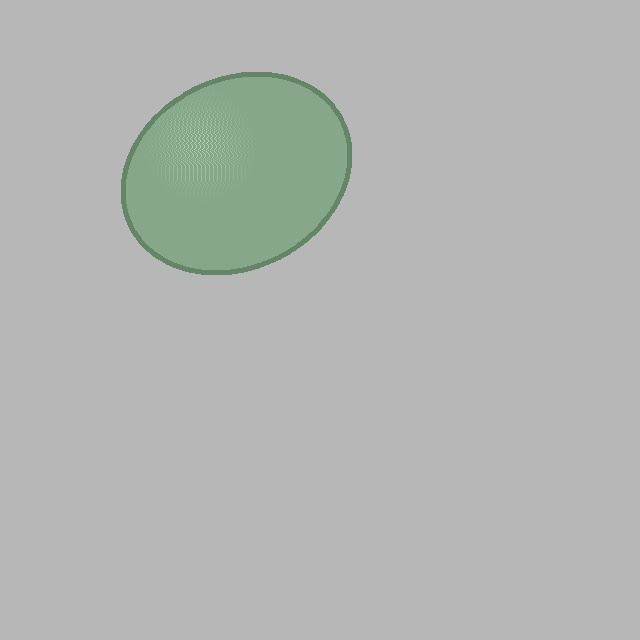lens: (123, 74, 349, 272)
